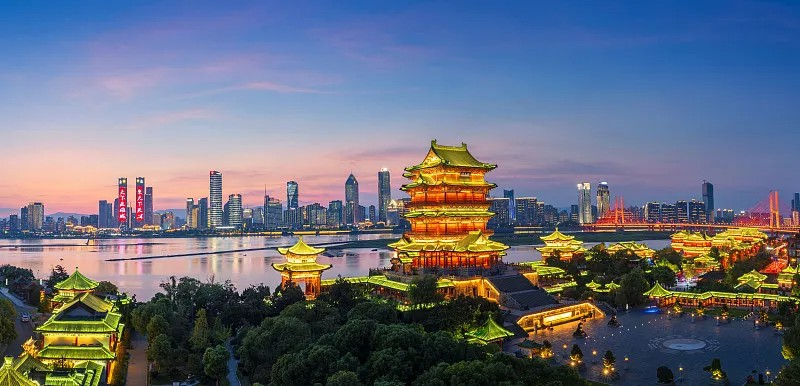Teng: (387, 137, 512, 274)
